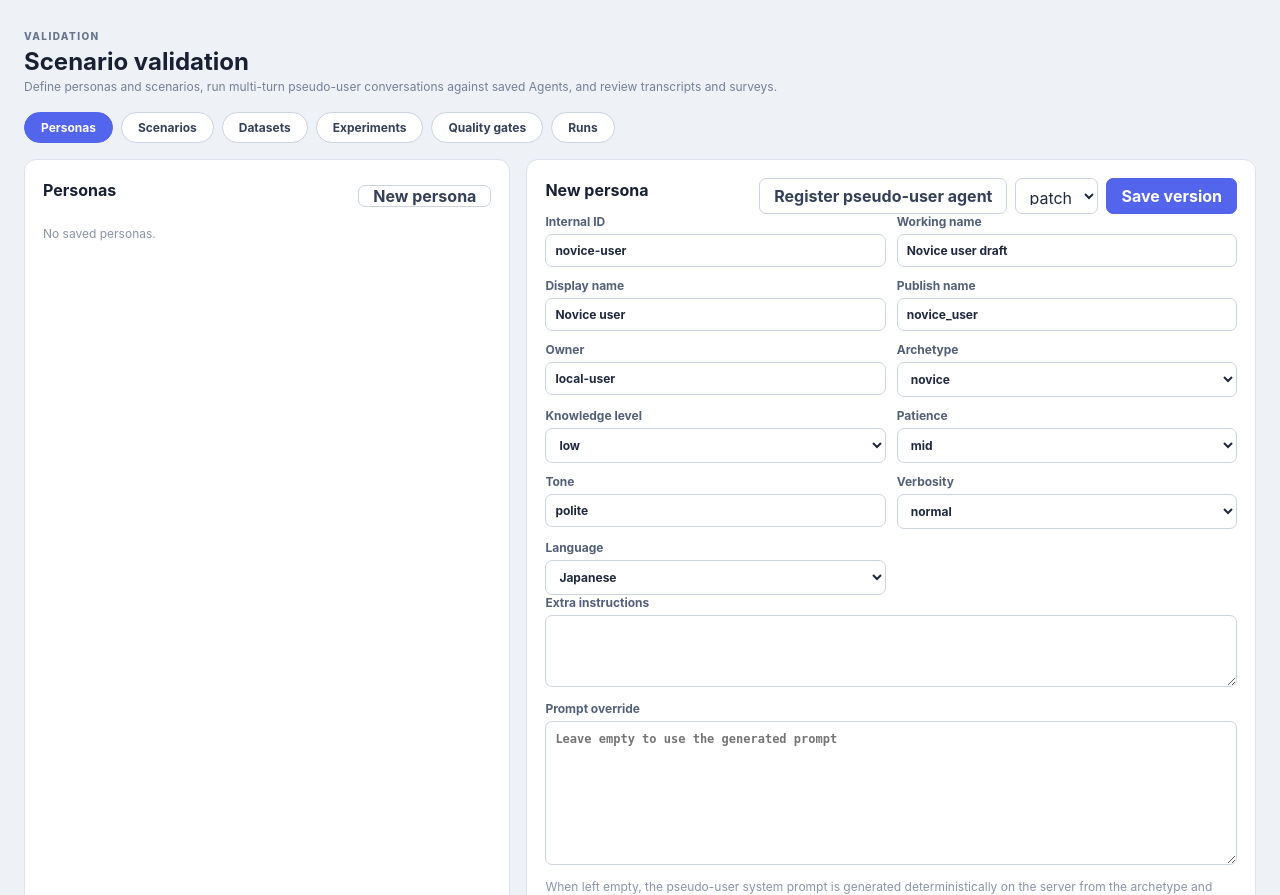
Test case: ValidationPage › Gate policyを切り替えるとgetGatePolicyでルール編集フィールドが復元される
Click the tab "Quality gates" at [487, 128], box top-left (432, 112), bottom-right (543, 143)
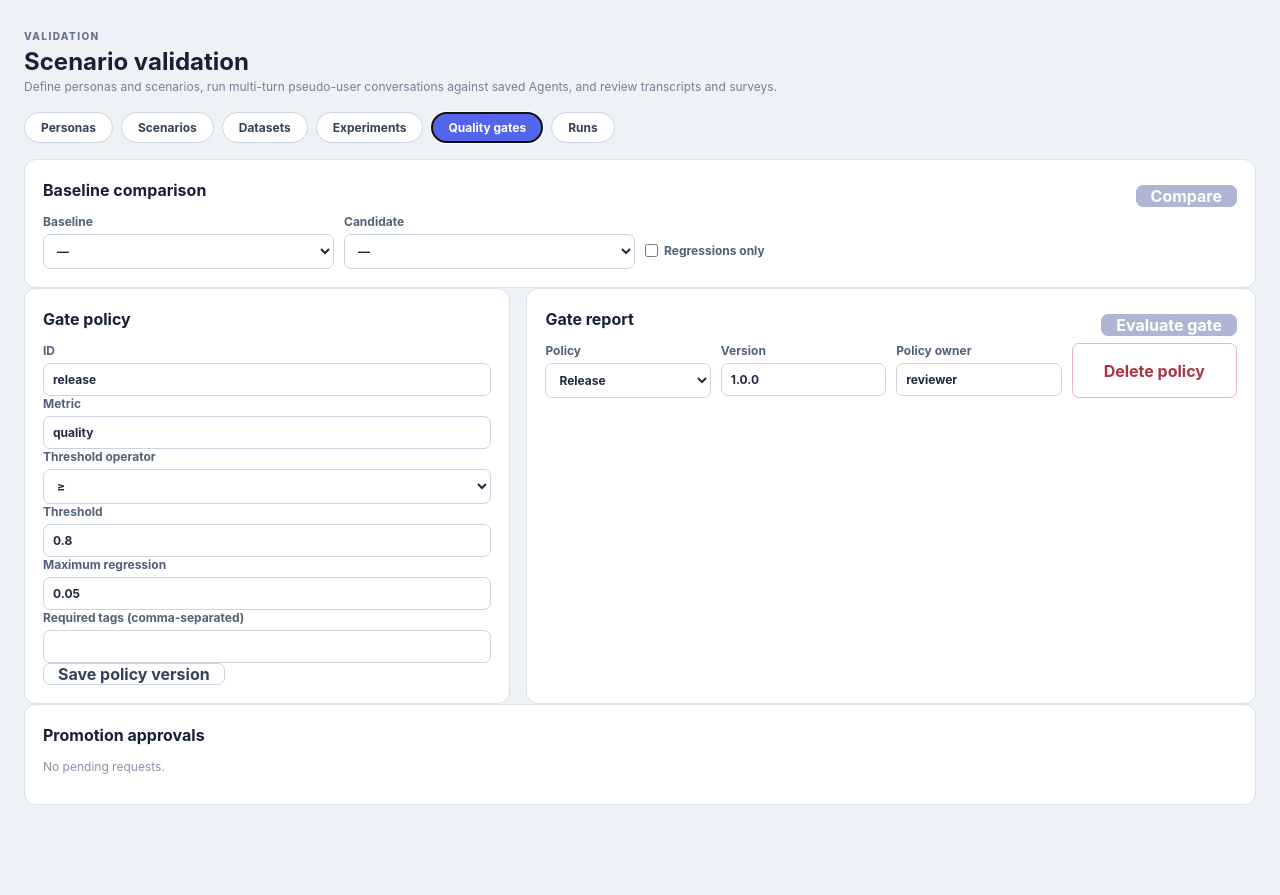
Check: the field named "Gate metric" holds "quality", box top-left (43, 416), bottom-right (491, 449)
Check: the number field labelled "Threshold" holds "0.8", box top-left (43, 524), bottom-right (491, 557)
Check: the number field labelled "Maximum regression" holds "0.05", box top-left (43, 577), bottom-right (491, 610)
Select "Staging" in the dropdown named "Gate policy" at [628, 380], box top-left (545, 363), bottom-right (711, 398)
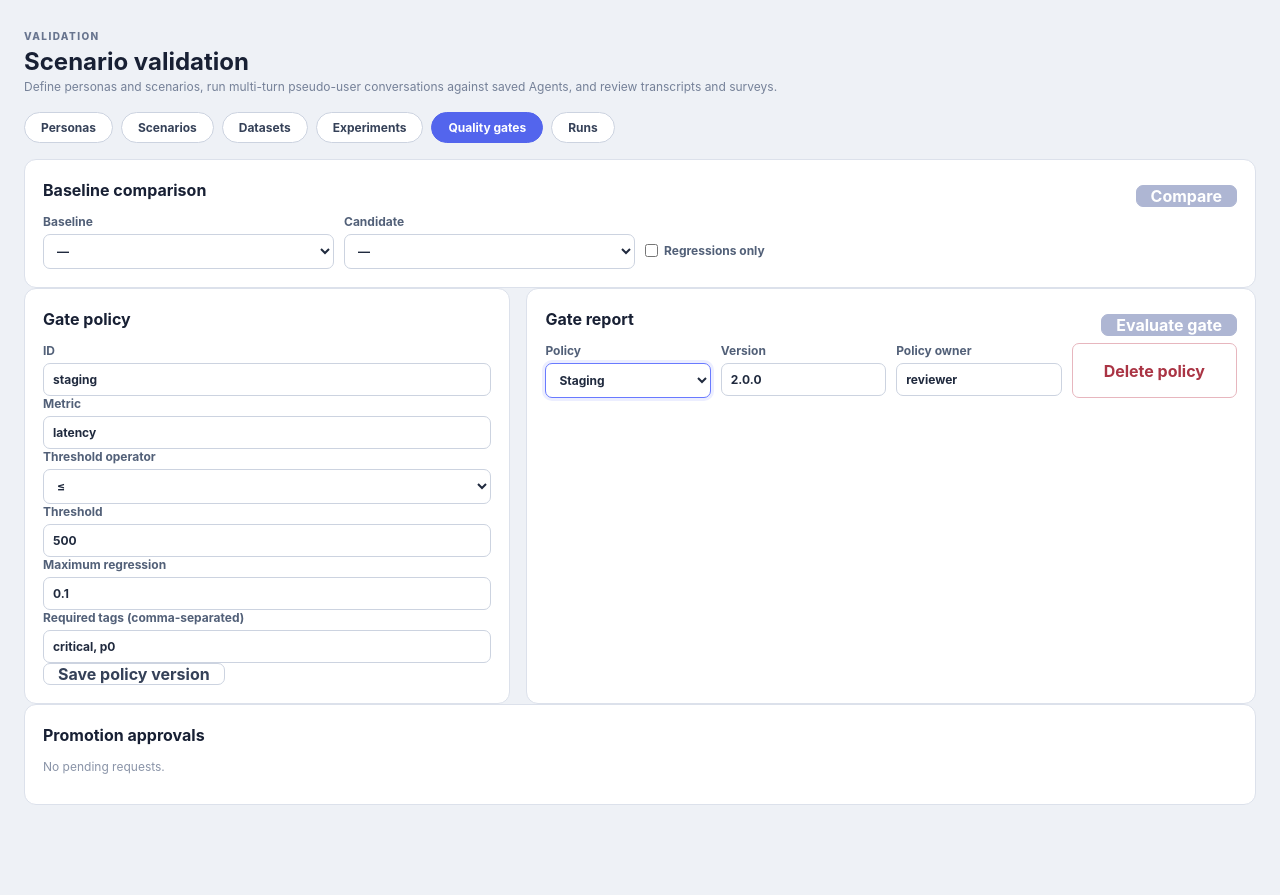
Check: the field named "Gate policy ID" holds "staging", box top-left (43, 363), bottom-right (491, 396)
Check: the field named "Gate metric" holds "latency", box top-left (43, 416), bottom-right (491, 449)
Check: the number field labelled "Threshold" holds "500", box top-left (43, 524), bottom-right (491, 557)
